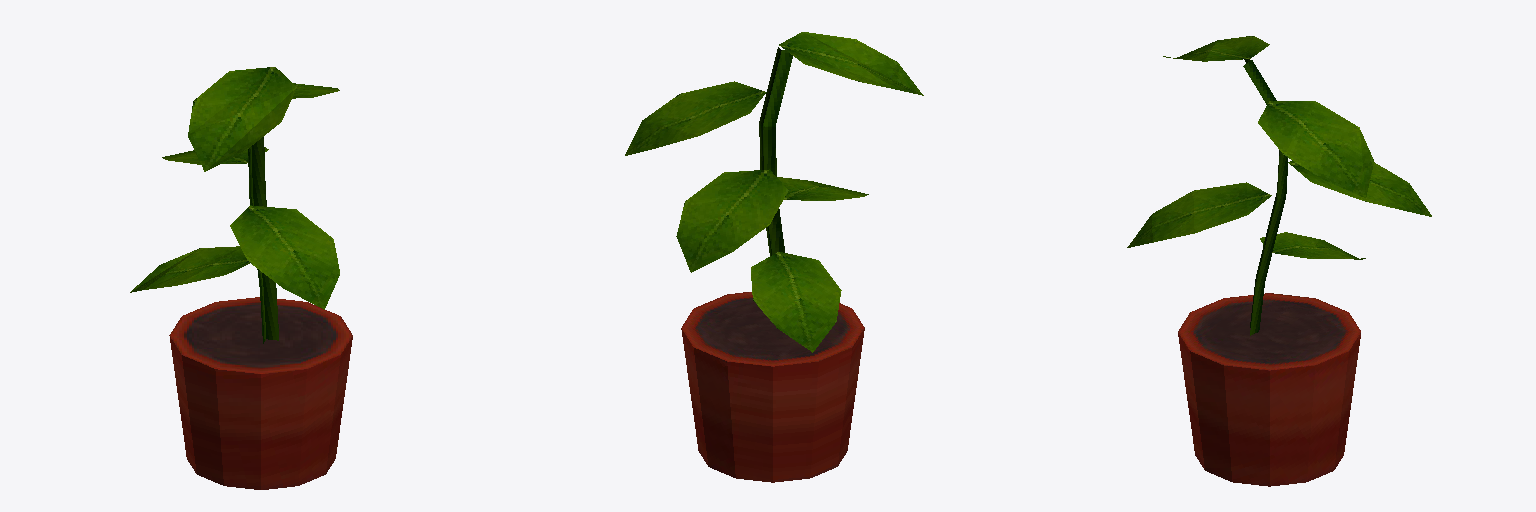
3 renders of one model, left to right at view 1: azimuth 30°, elevation 25°; view 2: azimuth 150°, elevation 25°; view 3: azimuth 270°, elevation 25°, orthographic.
Visible parts, largest first — view 1: Cylinder; view 2: Cylinder; view 3: Cylinder.
Boxes of the visible parts, box(x1,y1,x2,y2) form: Cylinder: box(130, 67, 352, 489); Cylinder: box(625, 32, 923, 482); Cylinder: box(1127, 36, 1431, 486).
Bounding box in the file's own units: 1.32 × 2.43 × 1.69.
Materials: 1 (1 with a texture image).